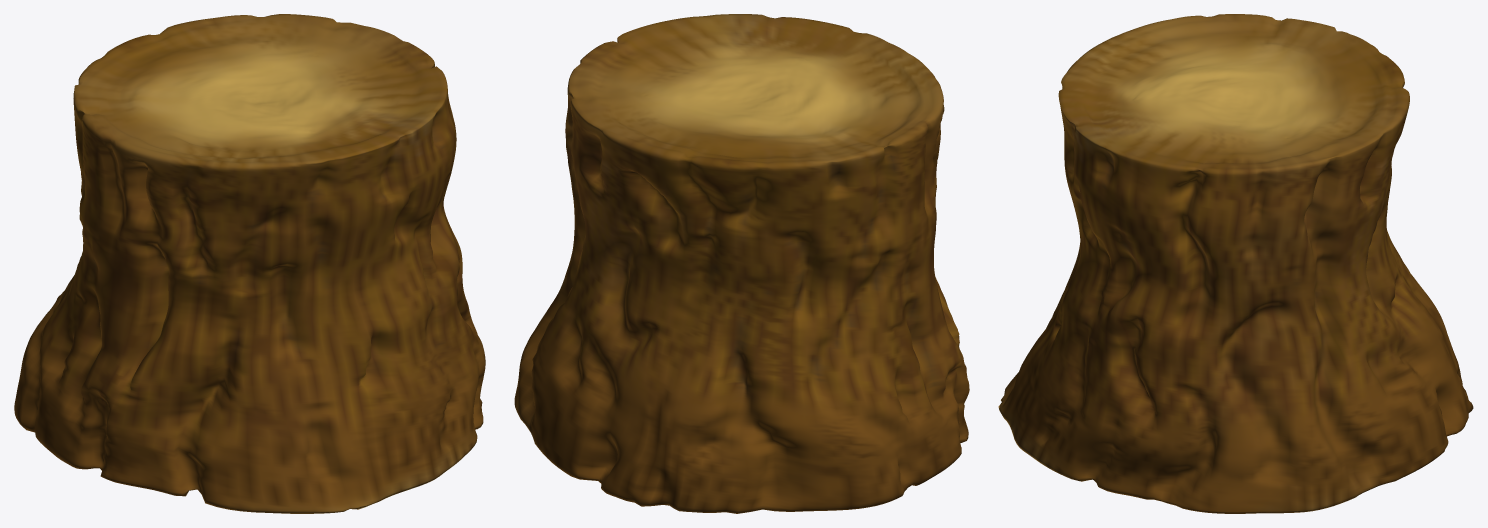
The model's file is Treestump.fbx.
3 renders of one model, left to right at view 1: azimuth 30°, elevation 25°; view 2: azimuth 150°, elevation 25°; view 3: azimuth 270°, elevation 25°, orthographic.
Visible parts, largest first — view 1: TreeStump; view 2: TreeStump; view 3: TreeStump.
Part boxes in pixels (x1,y1,x2,y2): TreeStump: (14,14,485,513); TreeStump: (514,14,969,513); TreeStump: (998,14,1473,513).
Size of the model in its own units: 169 by 132 by 174.
